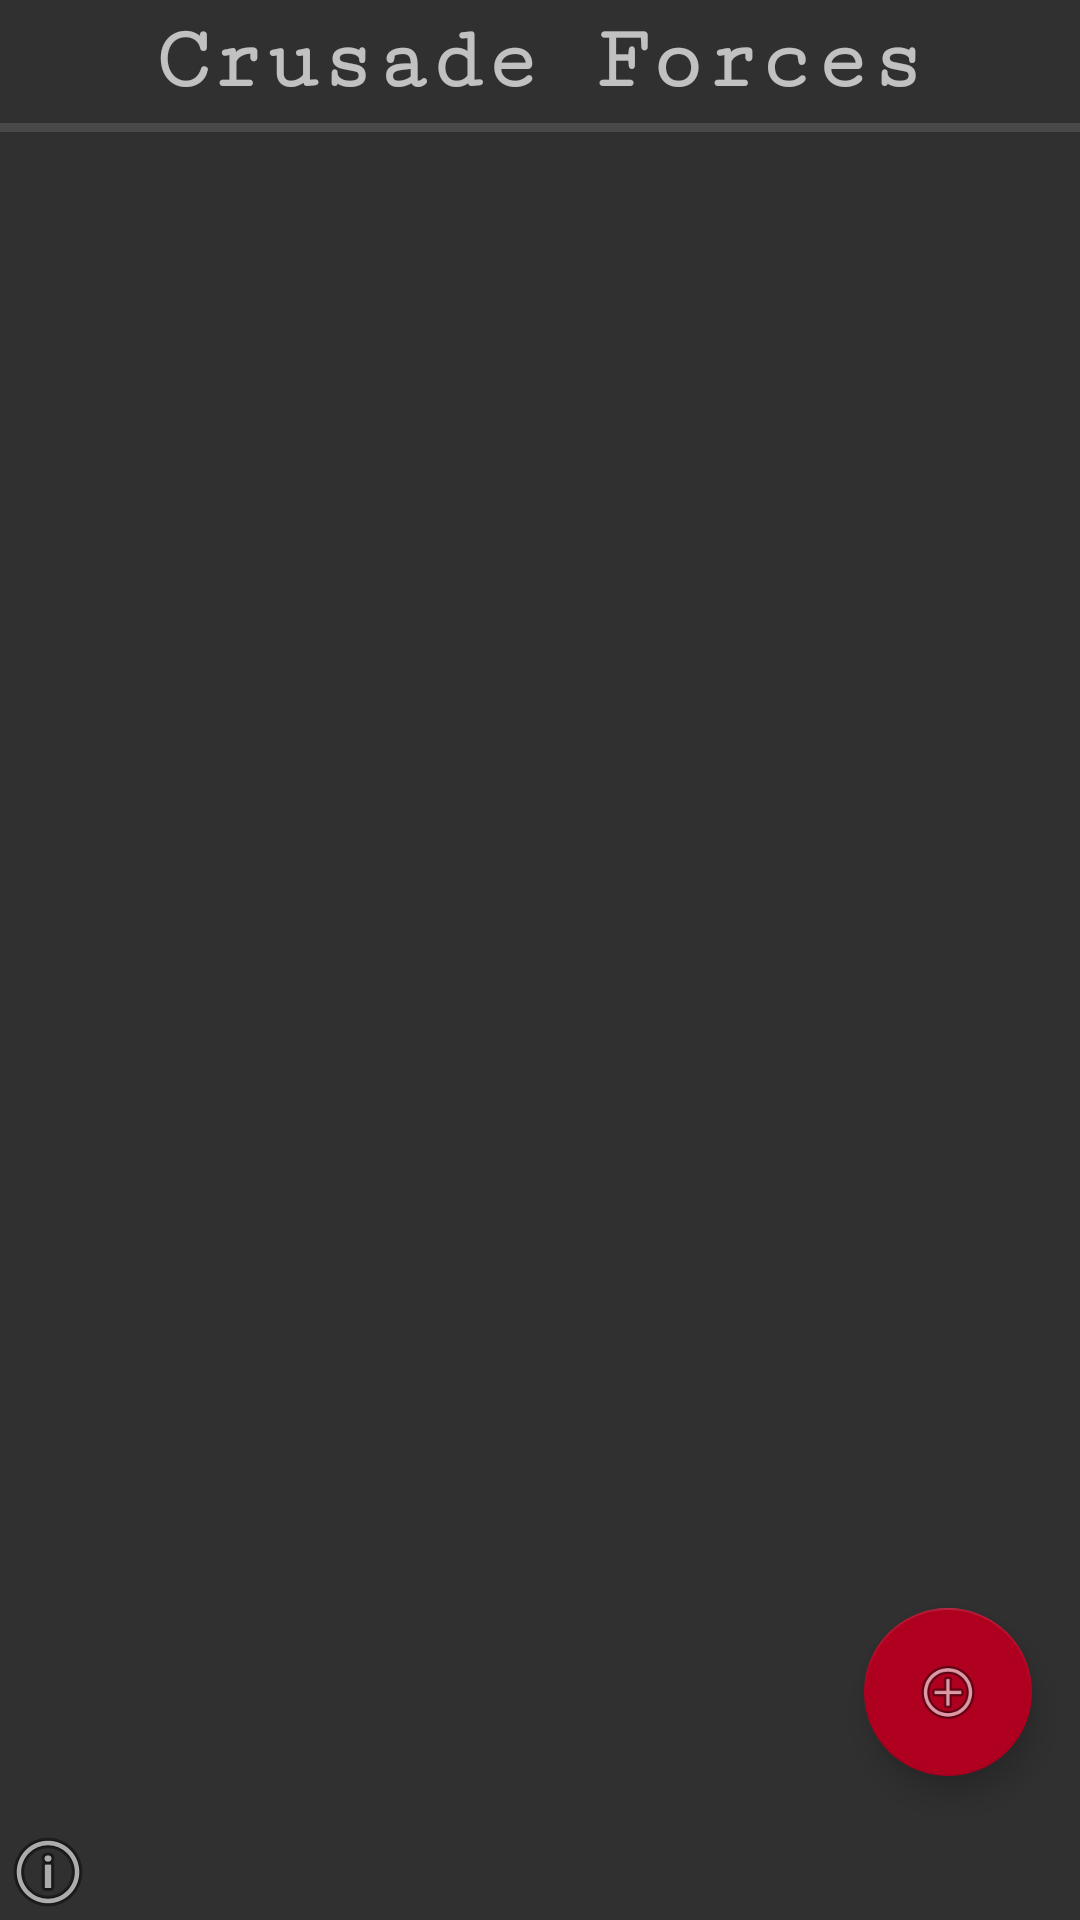

Icon click points for this 1080px×1920px phone screenshot, format (x=x, y=y):
add: (x=948, y=1692)
info details: (x=48, y=1872)
